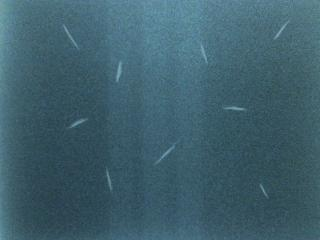scratch: (146, 138, 183, 171), (264, 15, 298, 45), (58, 20, 86, 56), (106, 55, 133, 87), (99, 163, 121, 201), (58, 111, 94, 134), (193, 40, 217, 70), (248, 180, 278, 202), (216, 100, 251, 116)
